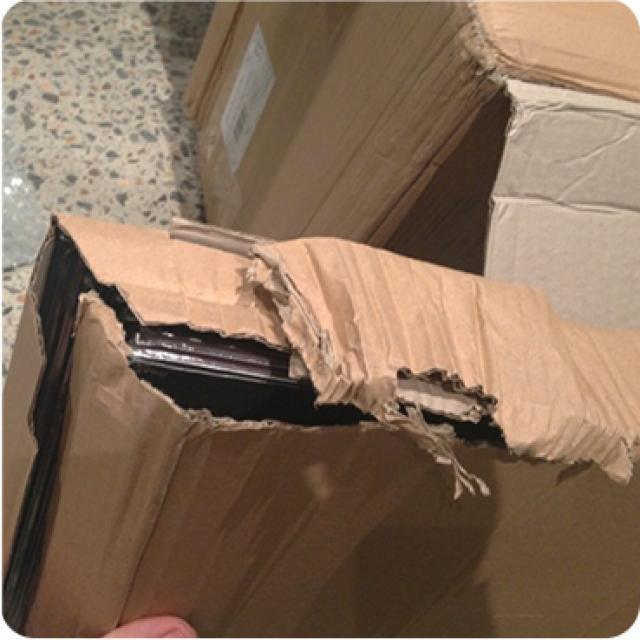hole: (115, 310, 505, 492)
